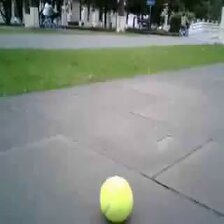tennis: (99, 175, 134, 223)
